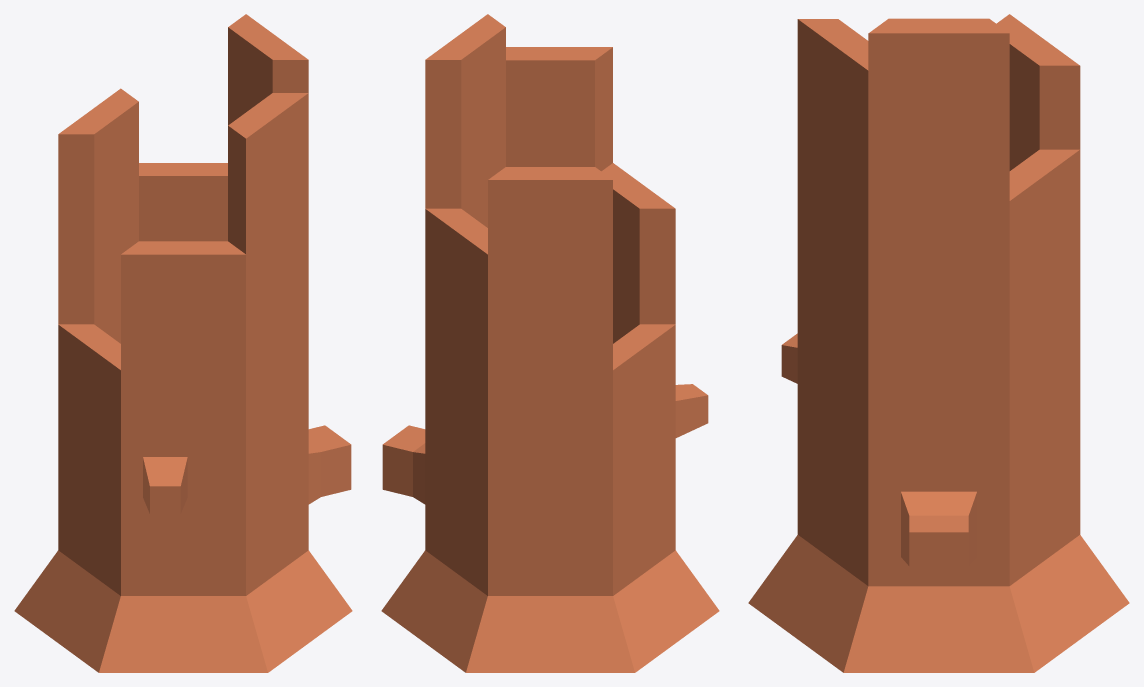
File: stump-old-tall.glb
3 renders of one model, left to right at view 1: azimuth 30°, elevation 25°; view 2: azimuth 150°, elevation 25°; view 3: azimuth 270°, elevation 25°, orthographic. The views are drawn at different scales.
Parts seen in each view (by area): view 1: stump_oldTall; view 2: stump_oldTall; view 3: stump_oldTall.
Part boxes in pixels (left/top/right/bottom): stump_oldTall: left=14, top=14, right=352, bottom=672; stump_oldTall: left=381, top=14, right=719, bottom=672; stump_oldTall: left=748, top=14, right=1129, bottom=672.
Size of the model in its own units: 0.3565 by 0.6665 by 0.371.
